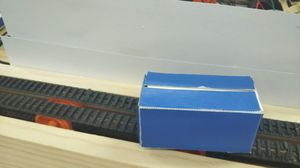box3: (136, 70, 261, 156)
